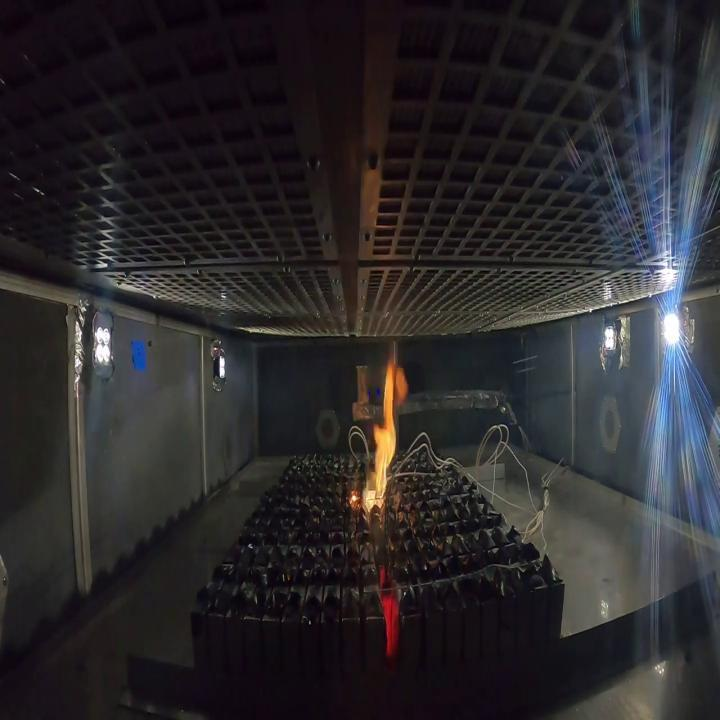fire: (353, 360, 410, 521)
